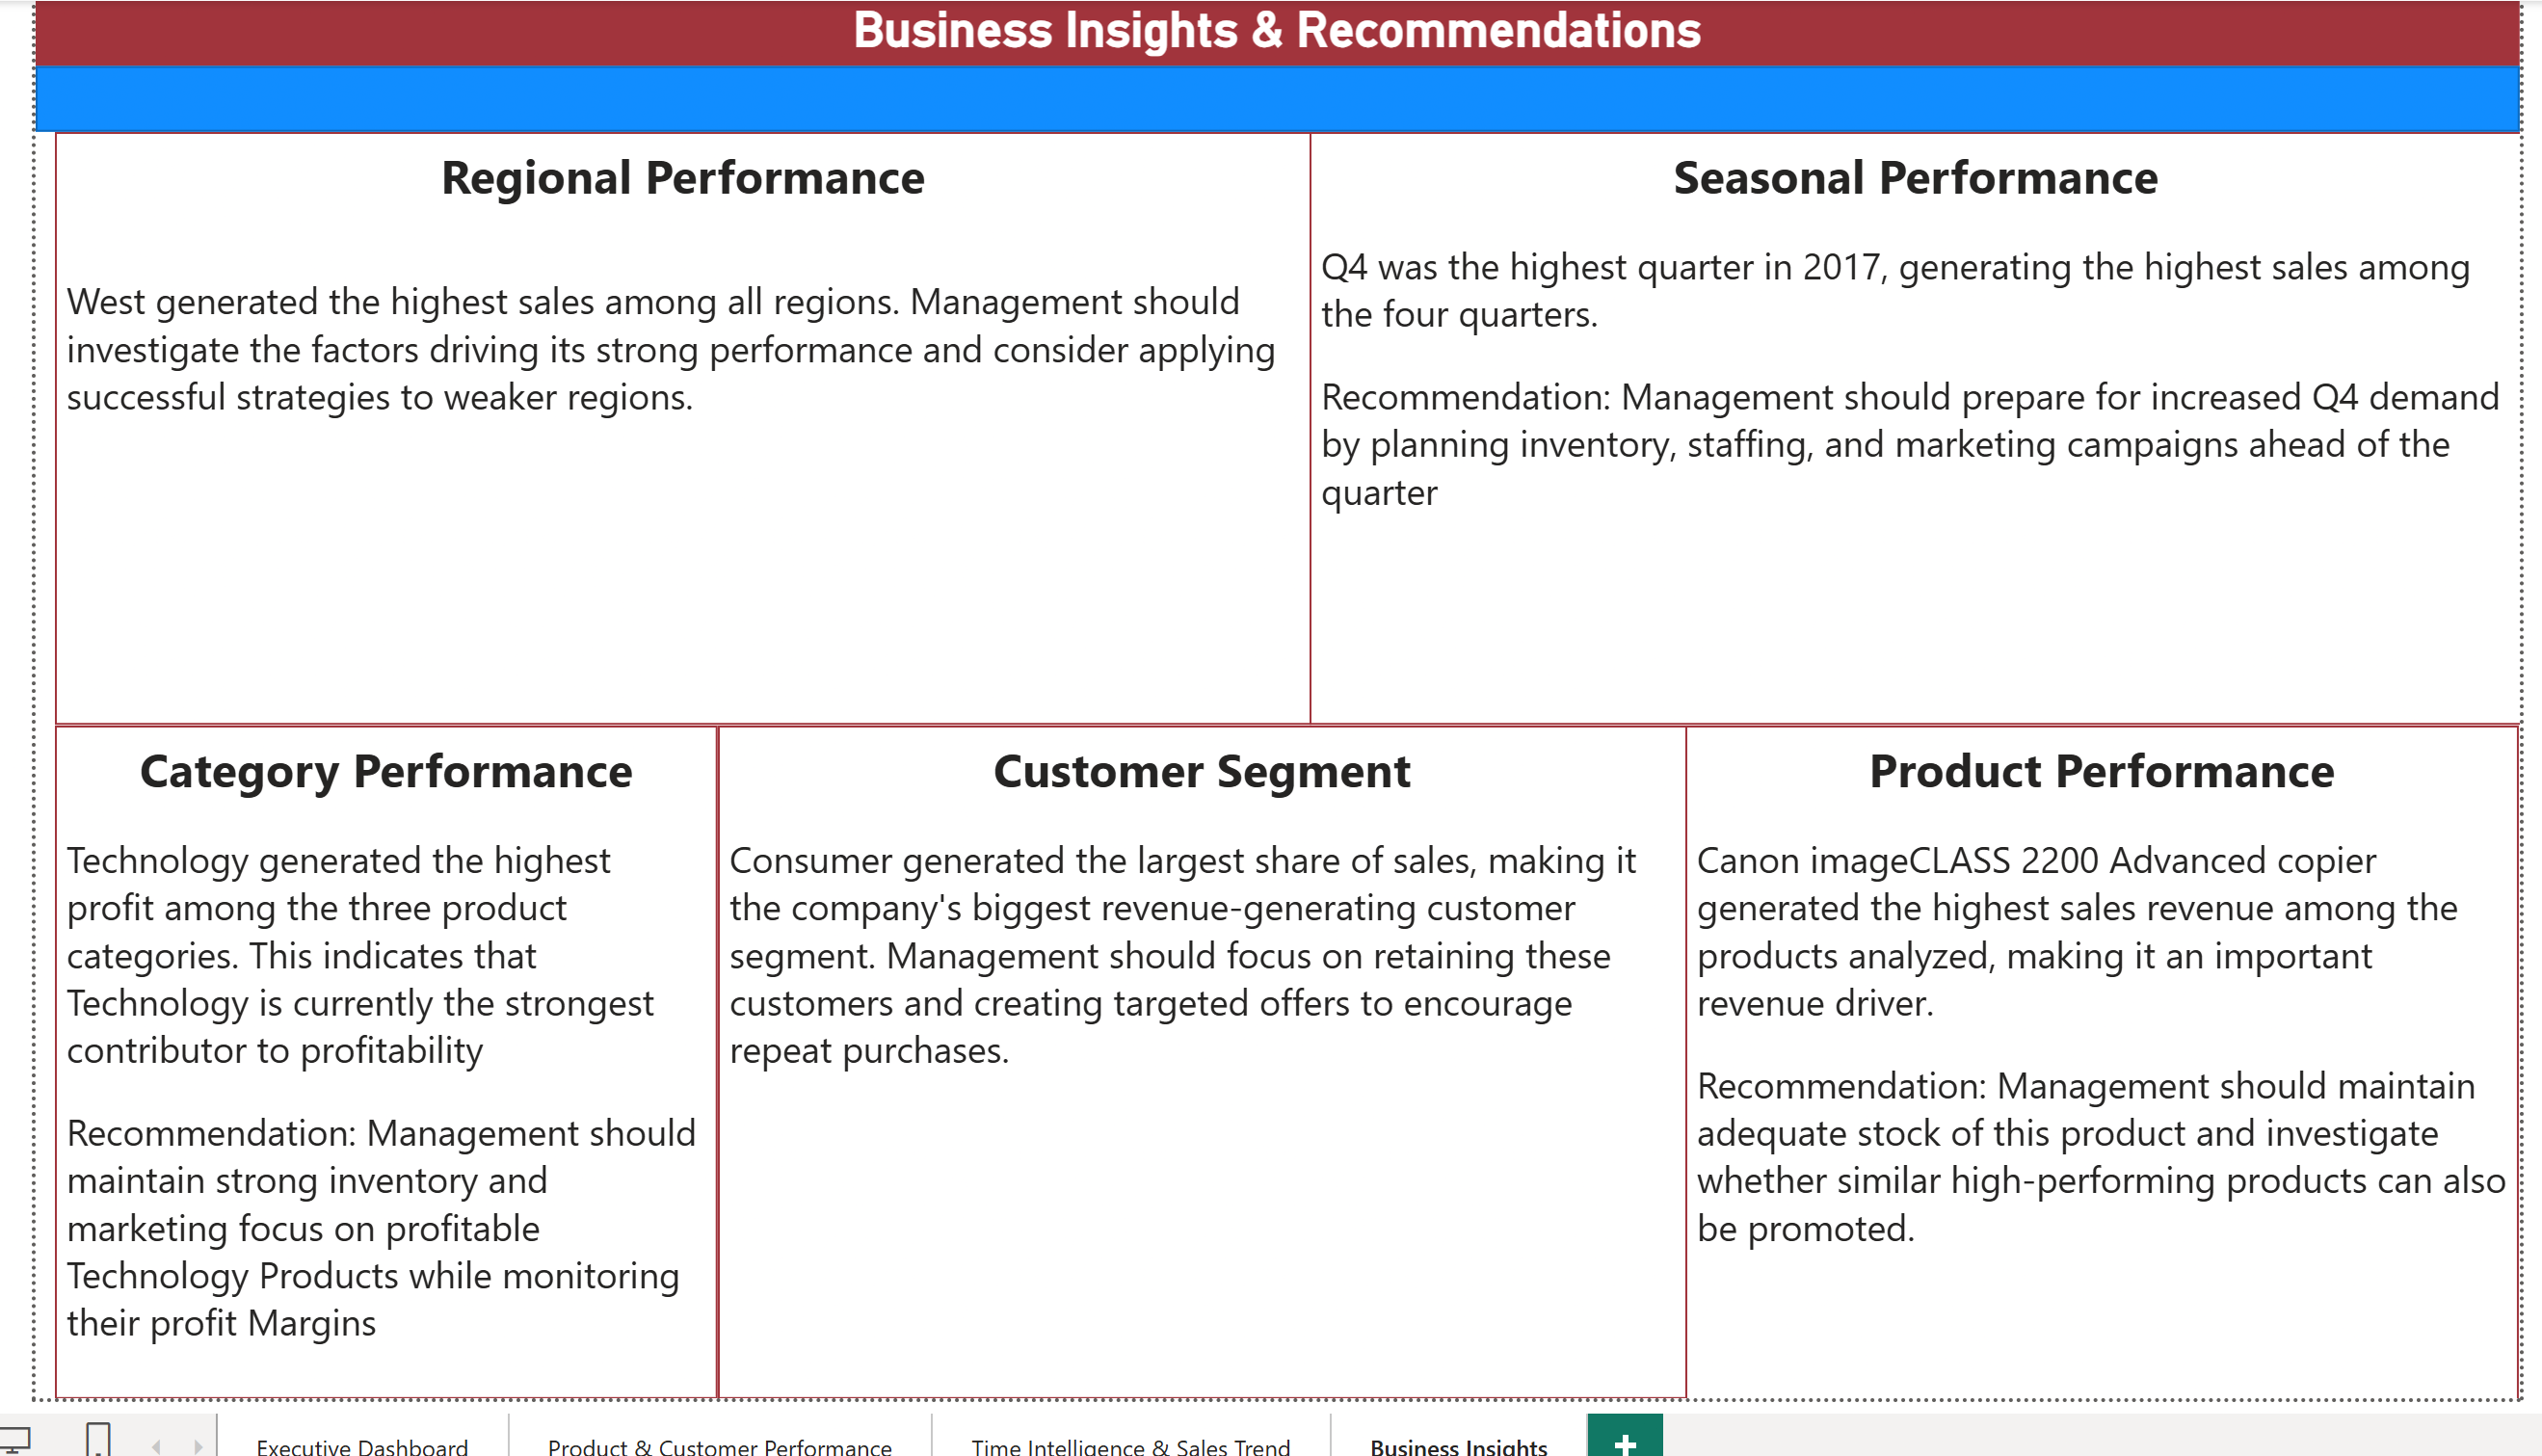

The dashboard page shown, as its layout file describes it:
{"tool":"powerbi","page":{"name":"Business Insights","canvas":[1280,720],"ordinal":3},"visuals":[{"type":"textbox","box":[9.5,67.7,647.4,305.7],"z":0},{"type":"textbox","box":[9.5,373.4,341.7,347],"z":1000},{"type":"textbox","box":[351.2,373.4,499.3,347],"z":2000},{"type":"textbox","box":[656.9,67.7,625.2,305.7],"z":3000},{"type":"textbox","box":[850.5,373.4,429.5,348],"z":4000},{"type":"shape","title":"Business Insights & Recommendations","box":[0,0,1280,67.4],"z":4001}]}

Visuals, with their boxes in screenshot pixels (x1, y1, x2, y2):
textbox: [39,126,1307,725]
textbox: [39,725,707,1404]
textbox: [707,725,1685,1404]
textbox: [1307,126,2530,725]
textbox: [1685,725,2527,1406]
"Business Insights & Recommendations" shape: [20,0,2527,125]
